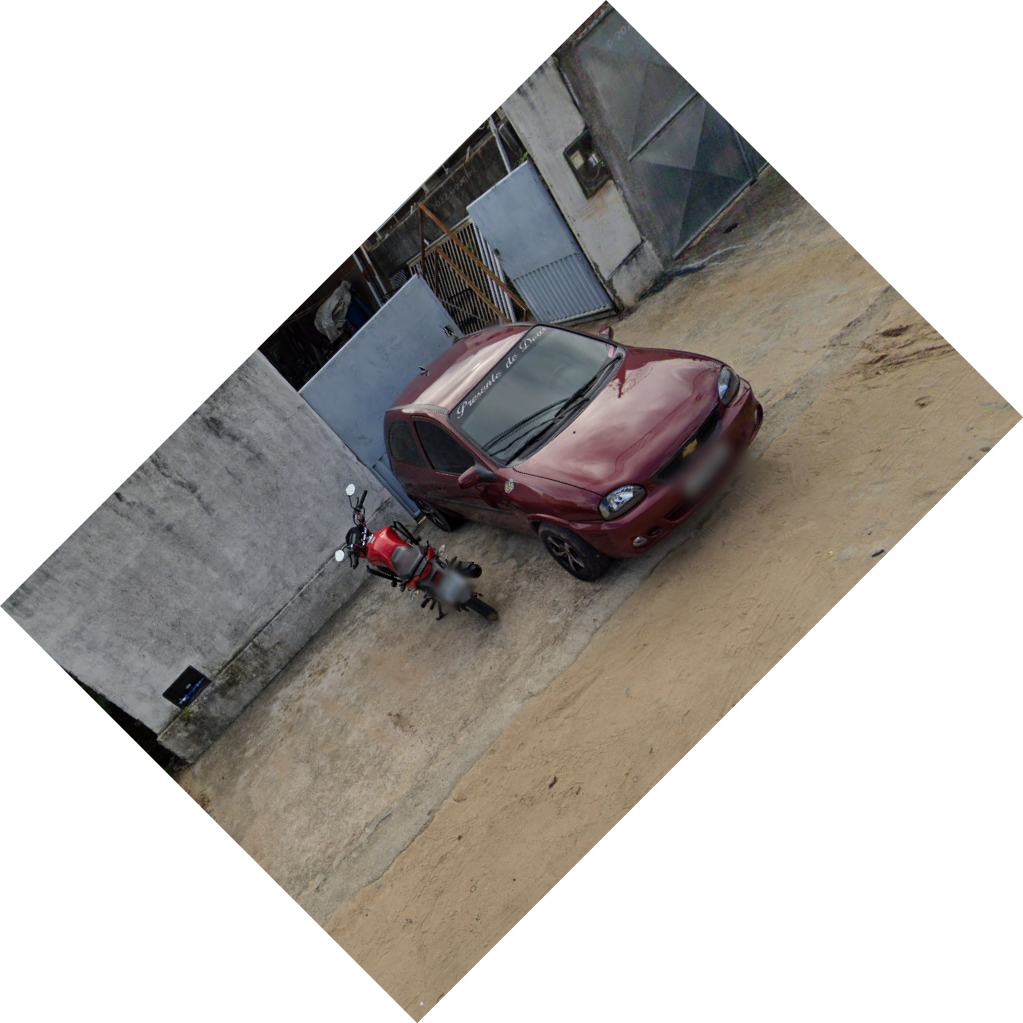car: (381, 312, 785, 585)
